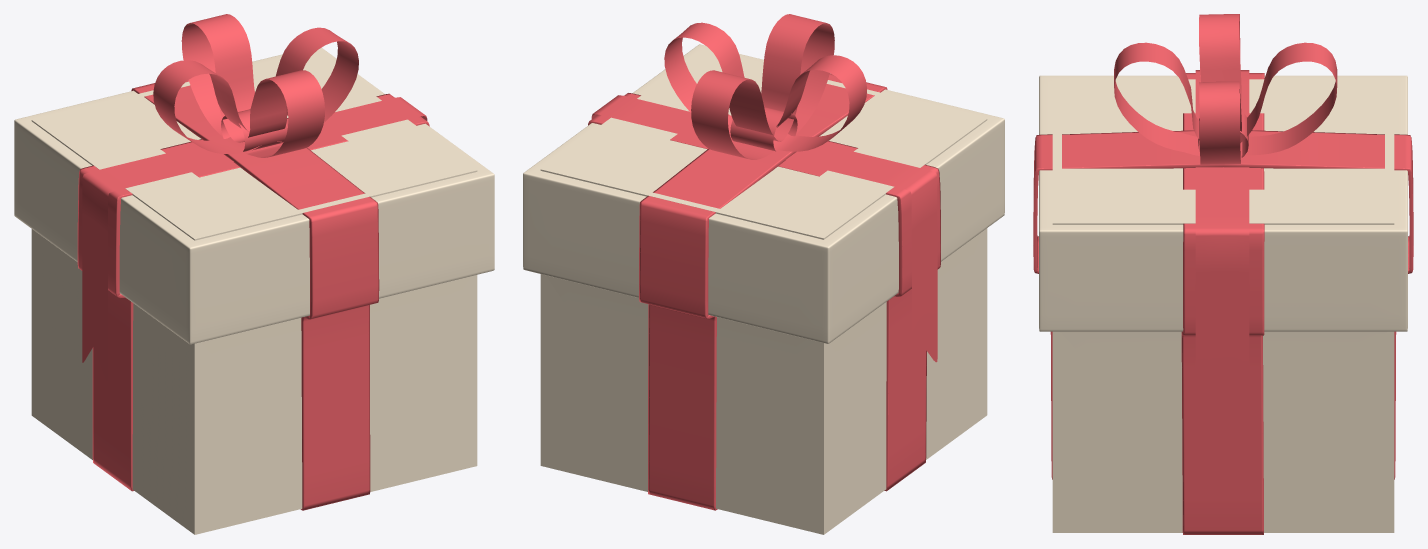
Rendered from gift-box-v2.glb.
The picture shows the model from 3 angles, left to right: view 1: azimuth 30°, elevation 25°; view 2: azimuth 150°, elevation 25°; view 3: azimuth 270°, elevation 25°; orthographic projection. The views are drawn at different scales.
Visible parts, largest first — view 1: Cube, box, ribbon 3, ribbon 4, green ribbon, ribbon 2, ribbon 5, ribbon 1; view 2: Cube, box, ribbon 3, ribbon 4, green ribbon, ribbon 2, ribbon 5, ribbon 1; view 3: Cube, box, ribbon 2, green ribbon, ribbon 3, ribbon 4, ribbon 5.
Boxes of the visible parts, x1=… form: Cube: x1=31, y1=52, x2=477, y2=534; box: x1=14, y1=47, x2=494, y2=366; ribbon 3: x1=131, y1=80, x2=379, y2=510; ribbon 4: x1=181, y1=14, x2=324, y2=157; green ribbon: x1=82, y1=97, x2=427, y2=380; ribbon 2: x1=77, y1=93, x2=429, y2=491; ribbon 5: x1=153, y1=27, x2=358, y2=154; ribbon 1: x1=221, y1=109, x2=287, y2=151; Cube: x1=540, y1=49, x2=987, y2=534; box: x1=523, y1=44, x2=1004, y2=365; ribbon 3: x1=639, y1=73, x2=887, y2=510; ribbon 4: x1=691, y1=14, x2=834, y2=159; green ribbon: x1=591, y1=95, x2=937, y2=379; ribbon 2: x1=588, y1=93, x2=940, y2=491; ribbon 5: x1=664, y1=22, x2=866, y2=151; ribbon 1: x1=730, y1=107, x2=797, y2=151; Cube: x1=1052, y1=79, x2=1394, y2=532; box: x1=1039, y1=75, x2=1407, y2=363; ribbon 2: x1=1181, y1=73, x2=1264, y2=534; green ribbon: x1=1195, y1=70, x2=1249, y2=429; ribbon 3: x1=1033, y1=130, x2=1413, y2=479; ribbon 4: x1=1114, y1=42, x2=1337, y2=155; ribbon 5: x1=1199, y1=14, x2=1241, y2=164.
Size of the model in its own units: 2.26 by 2.67 by 2.23.
